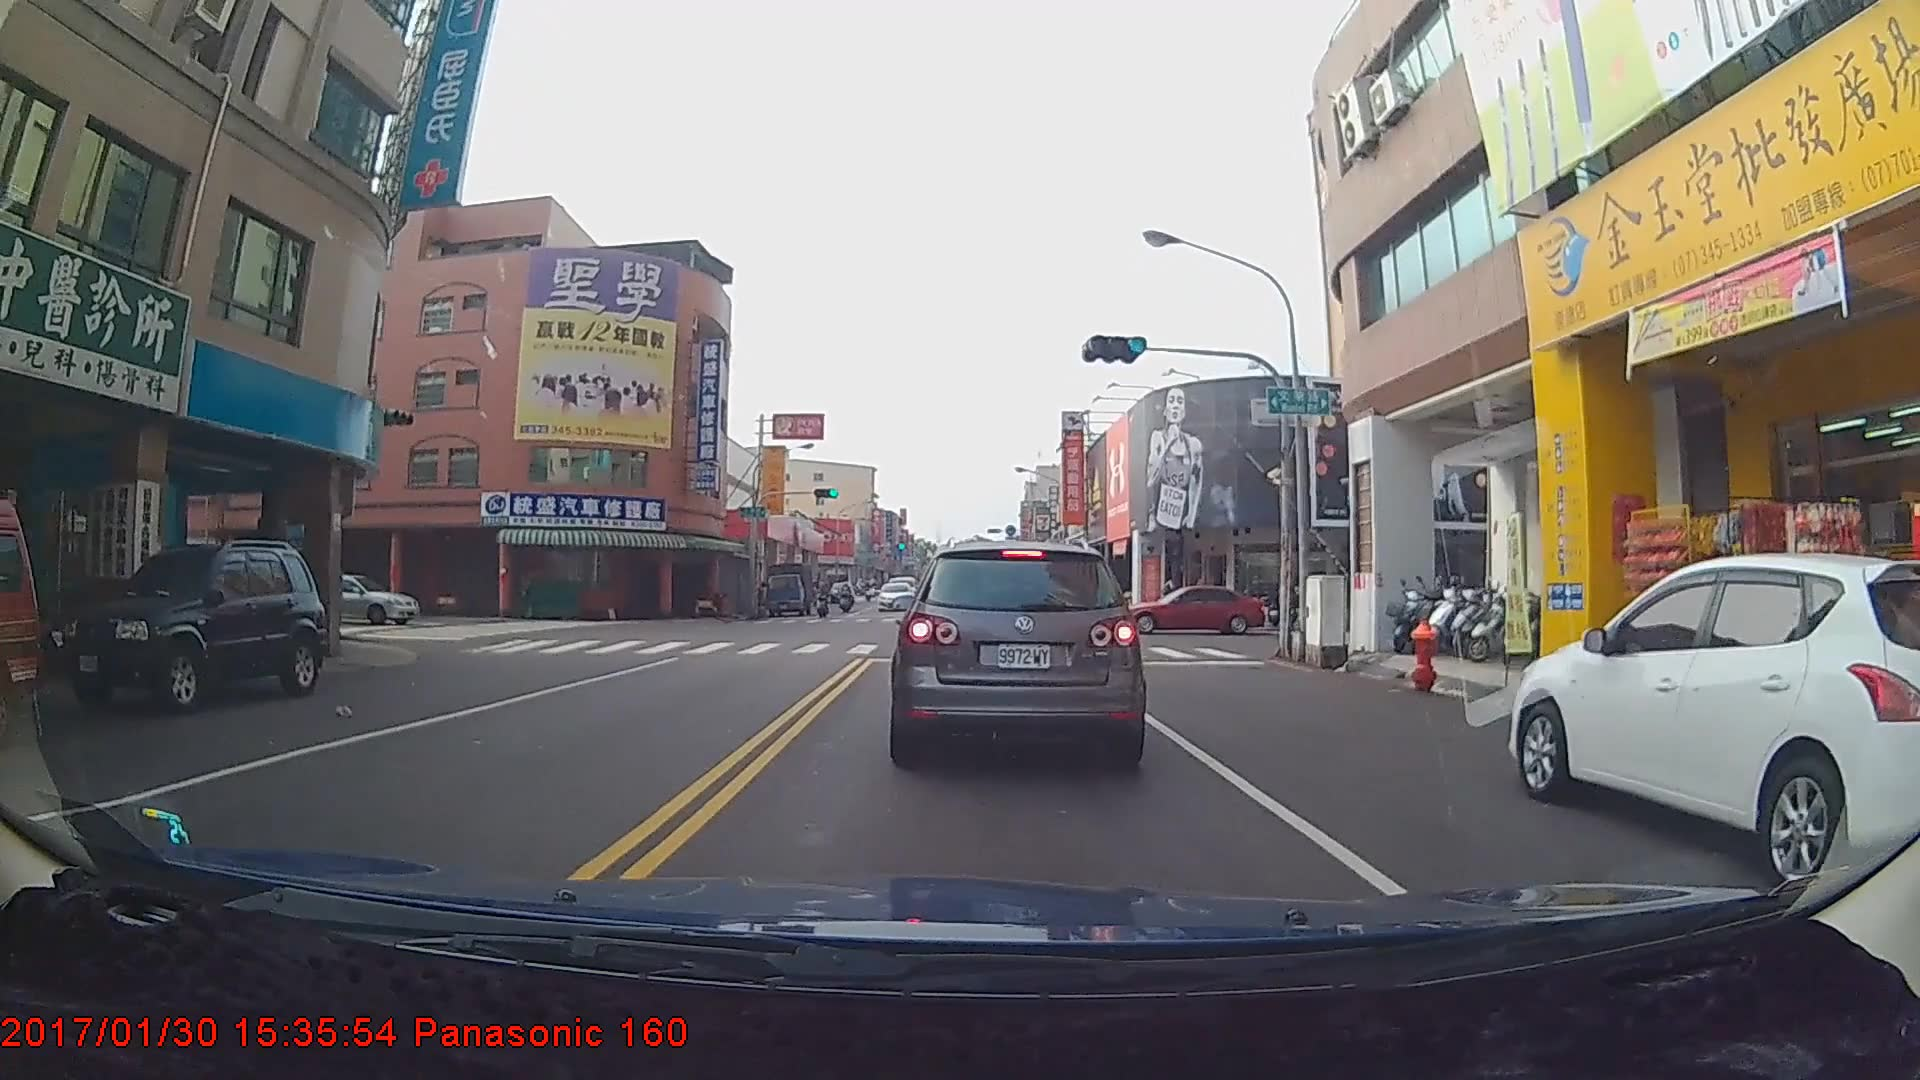rider: (808, 586, 834, 625), (838, 588, 859, 621)
vehicle: (1508, 552, 1919, 895), (894, 535, 1141, 764), (58, 540, 327, 715), (1114, 580, 1263, 632), (281, 573, 420, 625), (763, 566, 817, 622), (876, 580, 914, 611)
